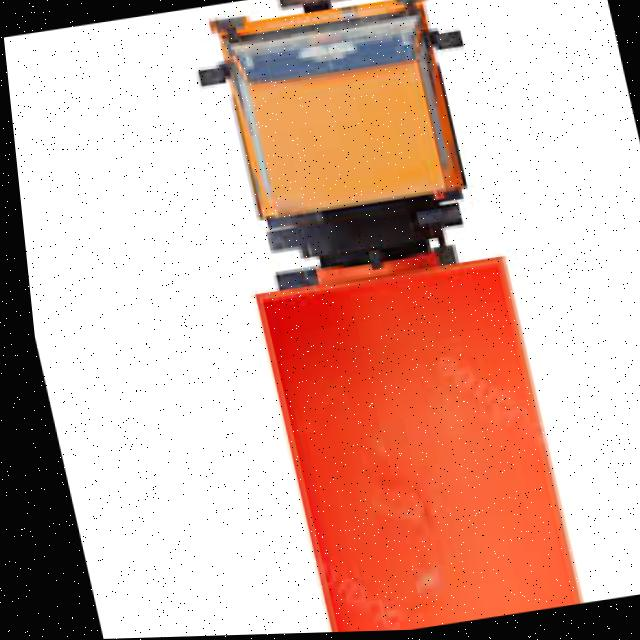truck: (188, 0, 574, 636)
